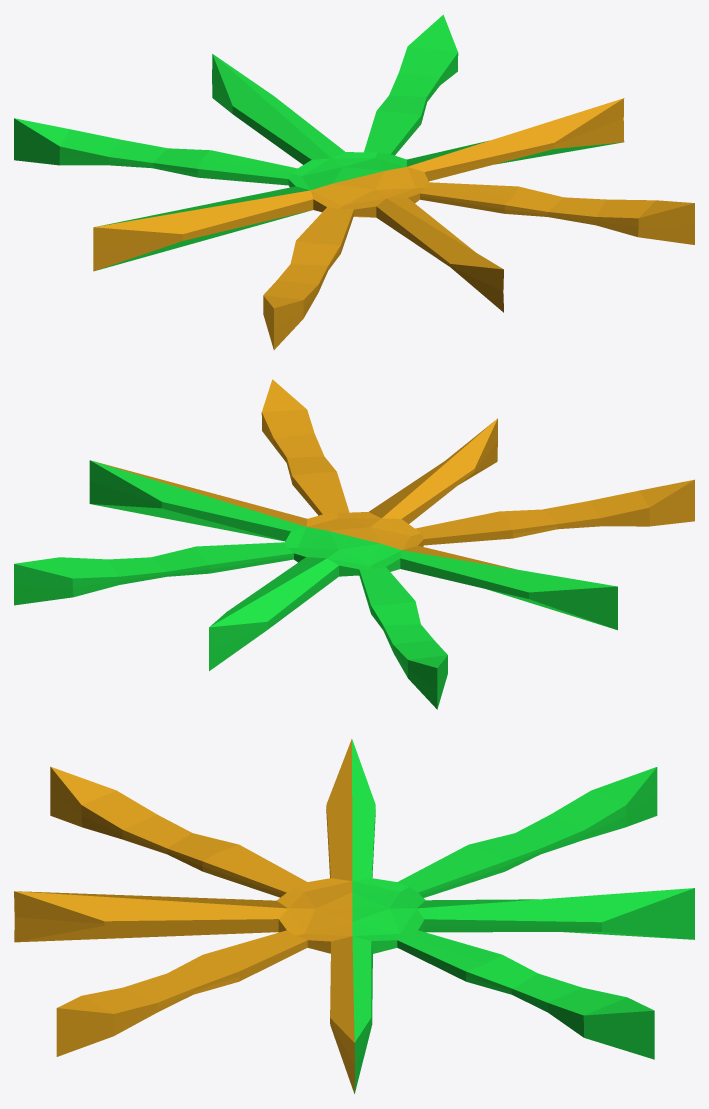
File: characterBallMesh.glb
3 views of the same model, one above another, from view 1: azimuth 30°, elevation 25°; view 2: azimuth 150°, elevation 25°; view 3: azimuth 270°, elevation 25° (orthographic). The views are drawn at different scales.
Parts seen in each view (by area): view 1: weaponFar; view 2: weaponFar; view 3: weaponFar.
Part boxes in pixels (left/top/right/bottom): weaponFar: left=14, top=14, right=694, bottom=349; weaponFar: left=14, top=379, right=694, bottom=709; weaponFar: left=14, top=739, right=694, bottom=1093.
Bounding box in the file's own units: 7.7 × 0.6516 × 7.31.
